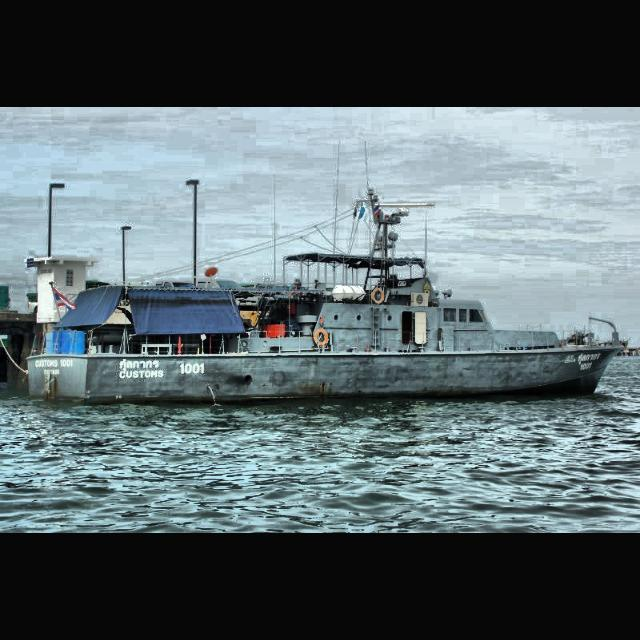patrol_vessel: (24, 186, 628, 408)
